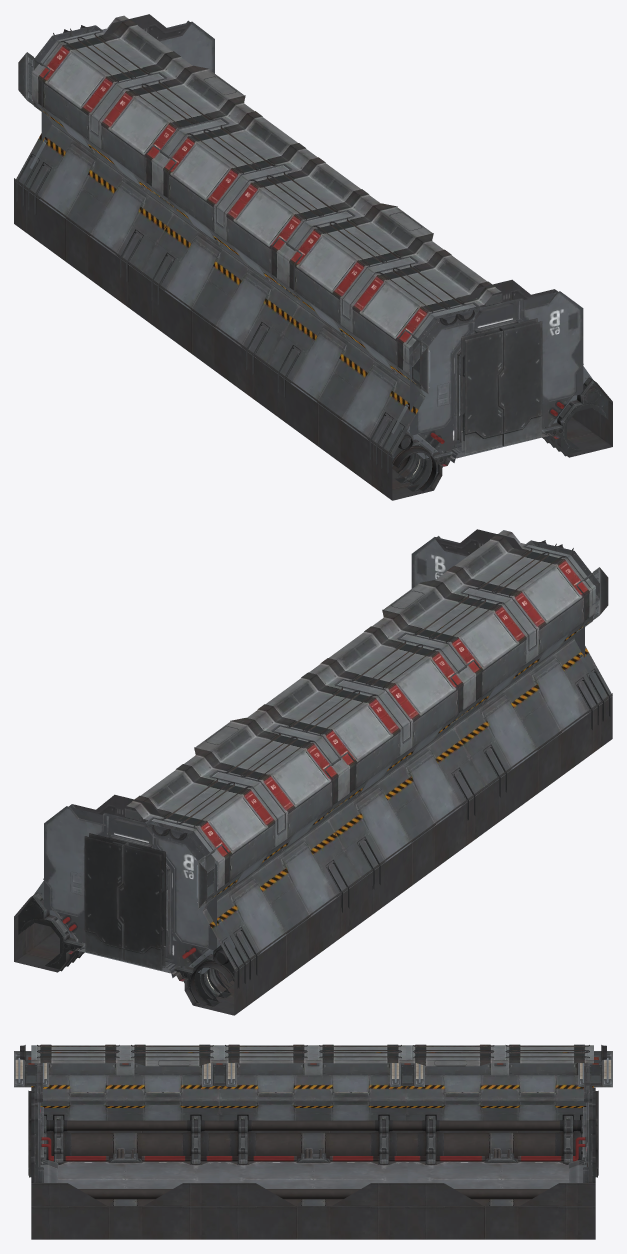
The model's file is corridor.glb.
3 renders of one model, top to bottom at view 1: azimuth 30°, elevation 25°; view 2: azimuth 150°, elevation 25°; view 3: azimuth 270°, elevation 25°, orthographic. The views are drawn at different scales.
Parts seen in each view (by area): view 1: SciFiC_Wall_0, SciFiC_Floor_0, SciFiC_Doorway_Frame_0, SciFiC_Doorway_door_0, SciFiC_Column_B_0, SciFiC_Pipeframe_0; view 2: SciFiC_Wall_0, SciFiC_Floor_0, SciFiC_Doorway_Frame_0, SciFiC_Doorway_door_0, SciFiC_Column_B_0, SciFiC_Pipeframe_0; view 3: SciFiC_Floor_0, SciFiC_Wall_0, SciFiC_Pipes_A_0, SciFiC_Pipeframe_0, SciFiC_Column_B_0, SciFiC_Doorway_Frame_0, SciFiC_PipebranchBox_0, SciFiC_Doorway_door_0, SciFiC_Doorway_Pipes_0.
Boxes of the visible parts, <box> form: SciFiC_Wall_0: <box>15,15,501,457</box>; SciFiC_Floor_0: <box>14,178,612,500</box>; SciFiC_Doorway_Frame_0: <box>30,14,592,462</box>; SciFiC_Doorway_door_0: <box>461,318,542,455</box>; SciFiC_Column_B_0: <box>18,25,481,394</box>; SciFiC_Pipeframe_0: <box>16,154,608,492</box>; SciFiC_Wall_0: <box>127,530,612,971</box>; SciFiC_Floor_0: <box>14,693,612,1015</box>; SciFiC_Doorway_Frame_0: <box>34,529,596,977</box>; SciFiC_Doorway_door_0: <box>84,833,165,970</box>; SciFiC_Column_B_0: <box>145,540,608,909</box>; SciFiC_Pipeframe_0: <box>18,668,610,1007</box>; SciFiC_Floor_0: <box>31,1131,595,1239</box>; SciFiC_Wall_0: <box>31,1044,593,1120</box>; SciFiC_Pipes_A_0: <box>63,1120,563,1205</box>; SciFiC_Pipeframe_0: <box>41,1114,584,1164</box>; SciFiC_Column_B_0: <box>14,1045,612,1087</box>; SciFiC_Doorway_Frame_0: <box>31,1063,595,1182</box>; SciFiC_PipebranchBox_0: <box>108,1148,518,1162</box>; SciFiC_Doorway_door_0: <box>28,1090,598,1177</box>; SciFiC_Doorway_Pipes_0: <box>41,1137,585,1161</box>.
Size of the model in its own units: 2.6 by 2.08 by 8.15.
Materials: 10 (10 with a texture image).
